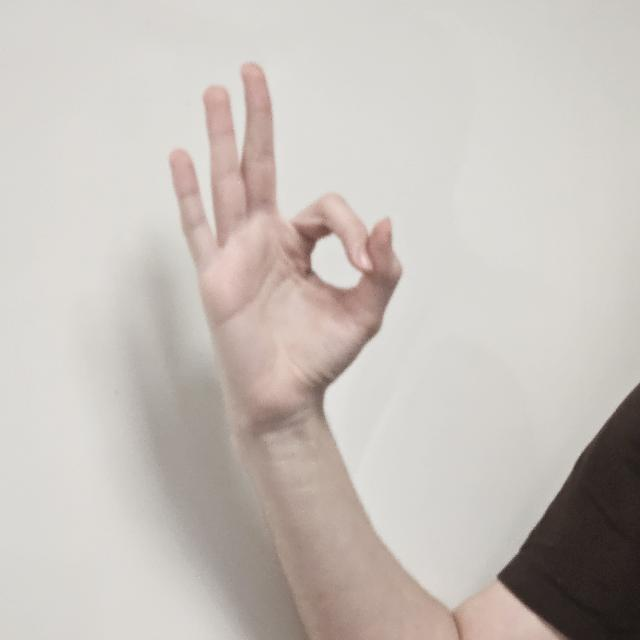Bolinha: (168, 58, 400, 460)
